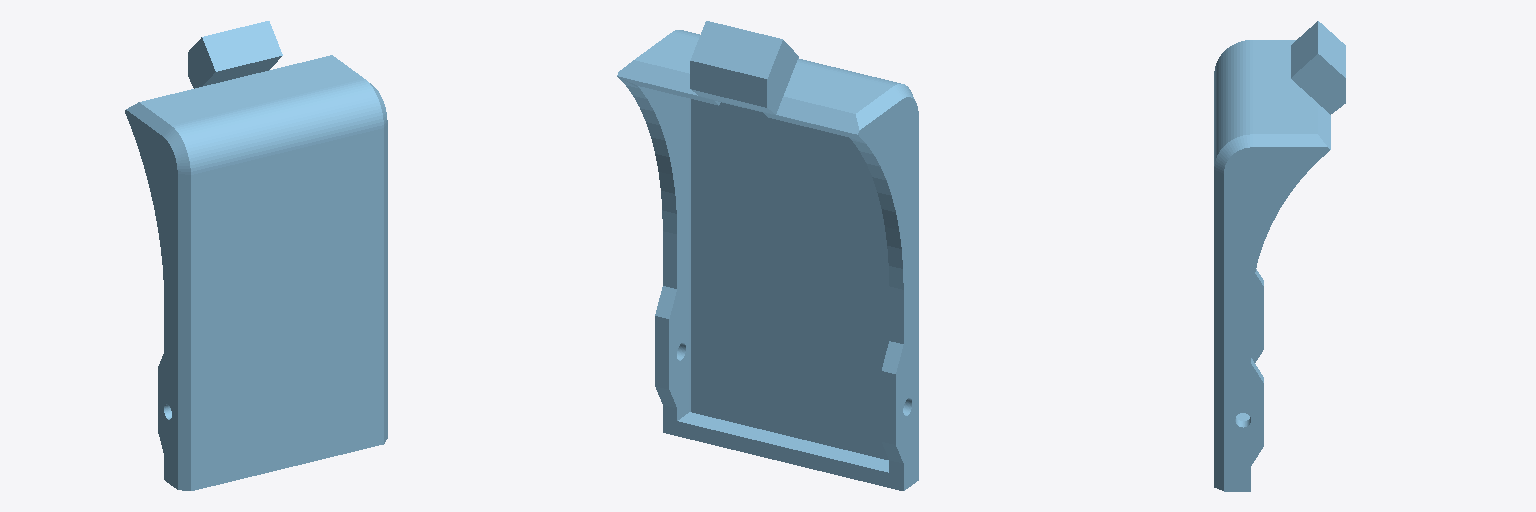
The robot description file, URDF, robot "my_robot_description":
<?xml version="1.0" ?>
<!-- Generated using onshape-to-robot -->
<!-- Onshape https://cad.onshape.com/documents/029cd40c2a7d917deb8a6556/w/b07856ac49435f29c7b4c4df/e/315de9391a15f3fb20148cfd -->
<robot name="my_robot_description">
  <!-- Link part_1 -->
  <link name="part_1">
    <inertial>
      <origin xyz="0 0 0" rpy="0 0 0"/>
      <mass value="1e-09"/>
      <inertia ixx="1e-09" ixy="0" ixz="0" iyy="1e-09" iyz="0" izz="1e-09"/>
    </inertial>
    <!-- Part part_1 -->
    <visual>
      <origin xyz="-0.0979459 0.0546171 0.199756" rpy="-1.5708 1.5708 0"/>
      <geometry>
        <mesh filename="package://assets/part_1.stl"/>
      </geometry>
      <material name="part_1_material">
        <color rgba="0.615686 0.811765 0.929412 1"/>
      </material>
    </visual>
    <collision>
      <origin xyz="-0.0979459 0.0546171 0.199756" rpy="-1.5708 1.5708 0"/>
      <geometry>
        <mesh filename="package://assets/part_1.stl"/>
      </geometry>
    </collision>
  </link>
</robot>

--- Facts derived from the render (not from the file) ---
3 views of the same robot in one strip: view 1: azimuth 30°, elevation 25°; view 2: azimuth 150°, elevation 25°; view 3: azimuth 270°, elevation 25° (orthographic).
Robot: my_robot_description — 1 links, 0 joints (none); root link part_1; default pose: every joint at zero.
Links seen in each view (by area): view 1: part_1; view 2: part_1; view 3: part_1.
Link boxes in pixels (<box>): part_1: <box>125,21,387,490</box>; part_1: <box>617,21,918,490</box>; part_1: <box>1214,21,1345,491</box>.
Size in the robot's own frame: 0.125 by 0.0676 by 0.2284 metres.
1 mesh visuals loaded from 1 distinct referenced files (1 binary STL).
